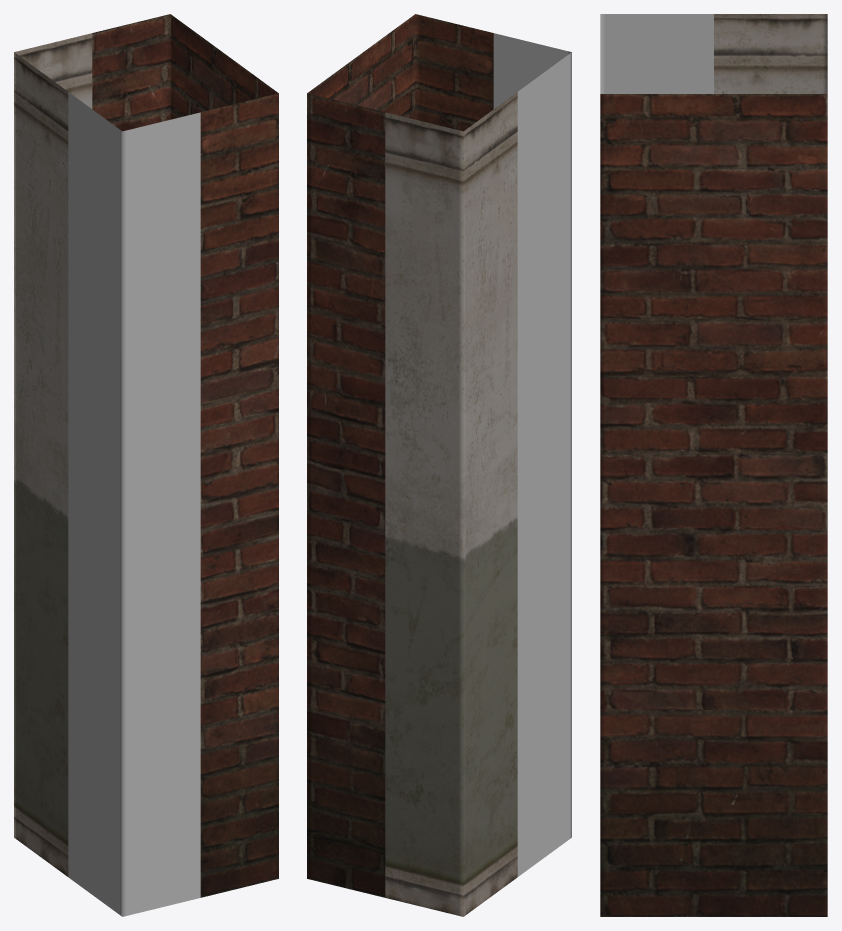
Rendered from wall_pillar_twosided.fbx.
The picture shows the model from 3 angles, left to right: view 1: azimuth 30°, elevation 25°; view 2: azimuth 150°, elevation 25°; view 3: azimuth 270°, elevation 25°; orthographic projection. The views are drawn at different scales.
Parts seen in each view (by area): view 1: wall_pillar_twosided; view 2: wall_pillar_twosided; view 3: wall_pillar_twosided.
Boxes of the visible parts, x1,y1,x2,y2 form: wall_pillar_twosided: [14, 14, 278, 916]; wall_pillar_twosided: [307, 14, 571, 916]; wall_pillar_twosided: [600, 14, 827, 916].
Size of the model in its own units: 40 by 192 by 48.
